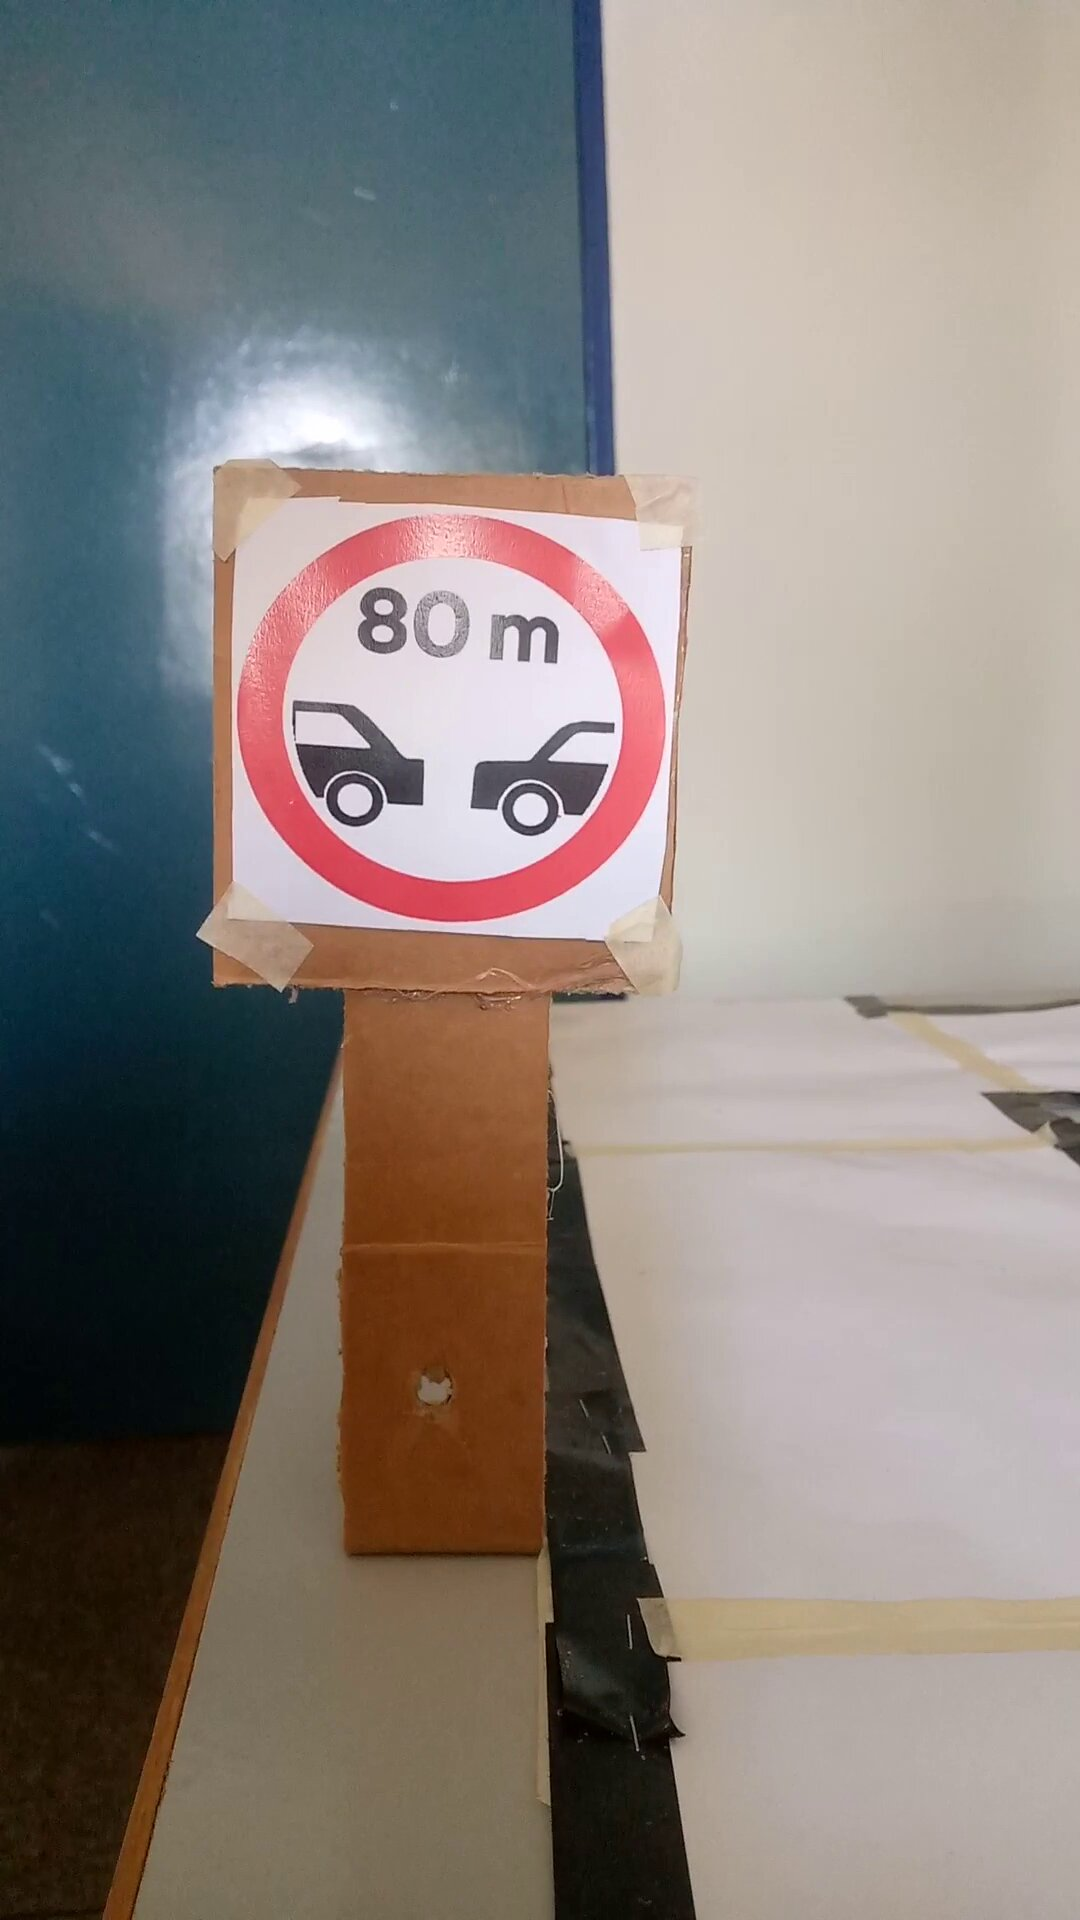panel001: (214, 469, 680, 992)
